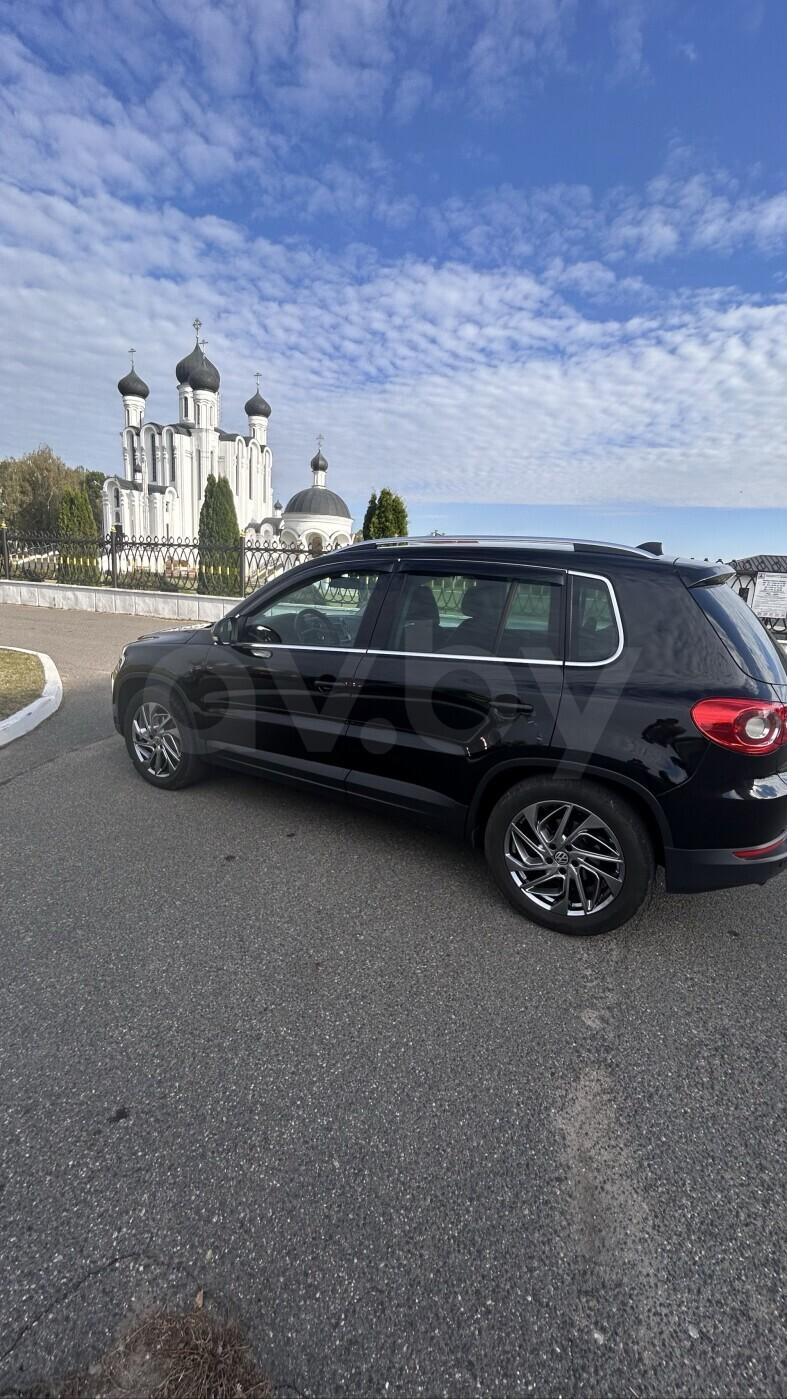Tiguan_2007-2011: (106, 532, 787, 944)
